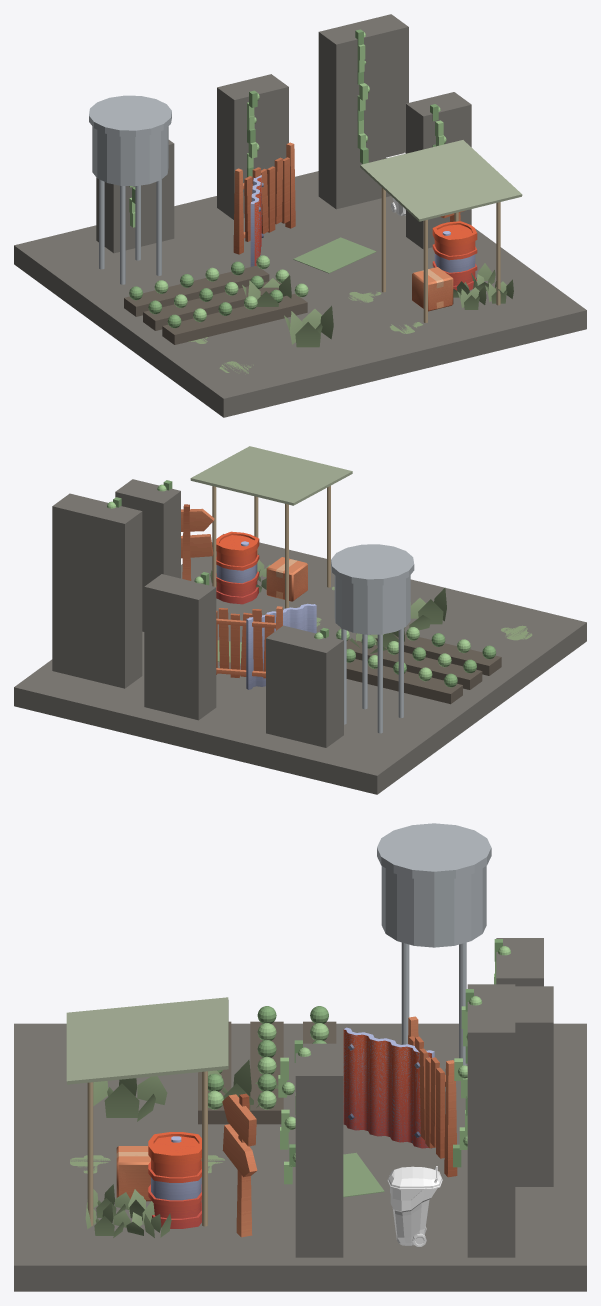
Rendered from lot.glb.
3 renders of one model, top to bottom at view 1: azimuth 30°, elevation 25°; view 2: azimuth 150°, elevation 25°; view 3: azimuth 270°, elevation 25°, orthographic. The views are drawn at different scales.
Visible parts, largest first — view 1: ground, ruin, tarp, ruin.001, fence-fortified, ruin.002, ruin.003, wtank, wtop, row, barrel, row.002 (+10 smaller); view 2: ground, ruin, ruin.001, ruin.003, tarp, ruin.002, wtank, fence-fortified, barrel, wtop, row.002, row.001 (+8 smaller); view 3: ground, ruin, tarp, ruin.002, ruin.001, metal-panel-screws, wtank, wtop, barrel, fence-fortified, signpost, Trashcan (+12 smaller).
Boxes of the visible parts, x1,y1,x2,y2 form: ground: (14, 171, 586, 417); ruin: (318, 14, 408, 209); tarp: (360, 140, 522, 221); ruin.001: (217, 74, 288, 219); fence-fortified: (233, 142, 295, 254); ruin.002: (406, 92, 471, 249); ruin.003: (96, 140, 174, 253); wtank: (92, 126, 168, 186); wtop: (89, 95, 171, 136); row: (162, 293, 307, 344); barrel: (432, 221, 477, 290); row.002: (124, 265, 269, 316); ground: (14, 534, 586, 794); ruin: (52, 493, 142, 688); ruin.001: (144, 574, 216, 720); ruin.003: (266, 625, 343, 747); tarp: (190, 446, 352, 505); ruin.002: (115, 479, 180, 631); wtank: (334, 575, 410, 634); fence-fortified: (216, 606, 282, 678); barrel: (216, 531, 259, 604); wtop: (331, 544, 414, 585); row.002: (346, 659, 462, 704); row.001: (346, 638, 482, 689); ground: (14, 1023, 586, 1291); ruin: (467, 984, 515, 1257); tarp: (66, 997, 228, 1084); ruin.002: (295, 1043, 343, 1257); ruin.001: (515, 986, 553, 1186); metal-panel-screws: (343, 1027, 434, 1148); wtank: (381, 866, 486, 947); wtop: (377, 823, 491, 880); barrel: (148, 1132, 201, 1228); fence-fortified: (408, 1016, 457, 1177); signpost: (222, 1093, 257, 1237); Trashcan: (387, 1166, 442, 1246).
Size of the model in its own units: 6 by 3.01 by 6.
Materials: 16 (5 with a texture image).
